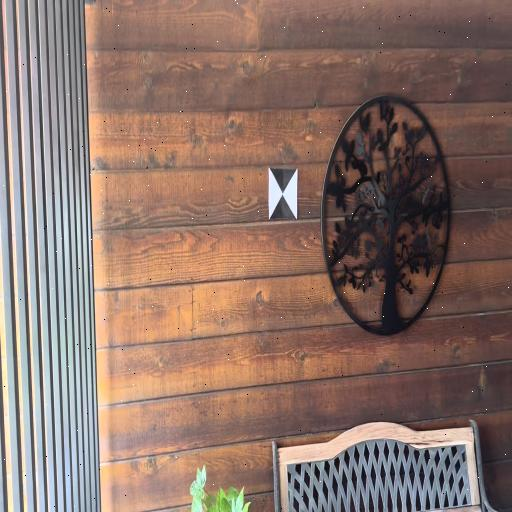target: (269, 168, 297, 220)
